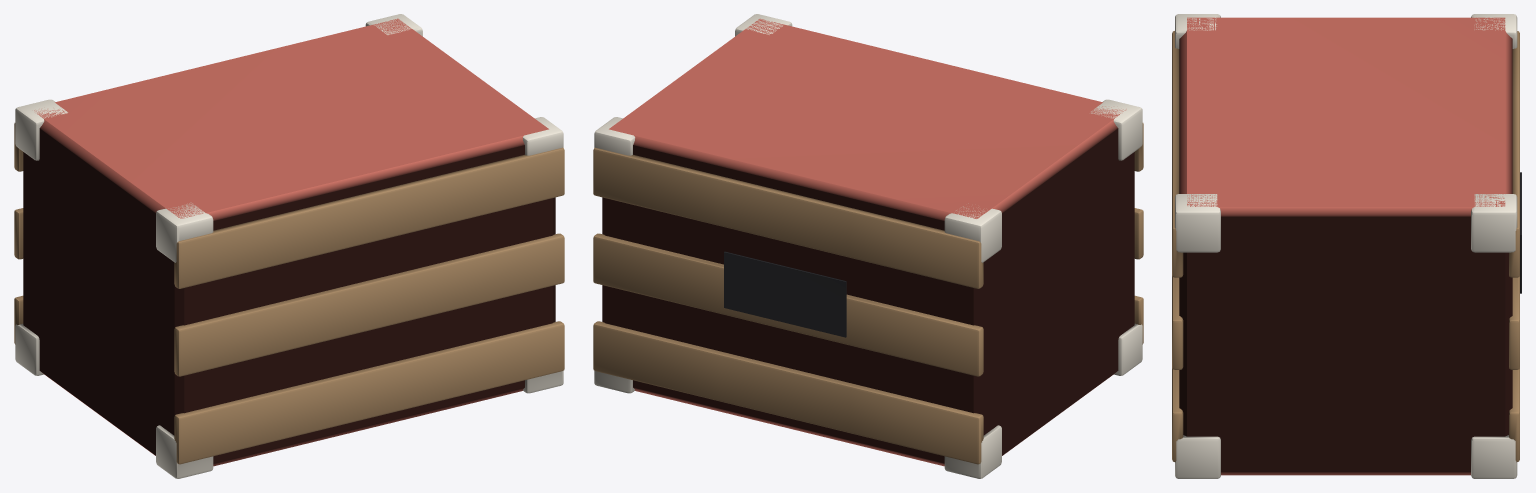
Rendered from fishing_crate.glb.
3 views of the same model, side by side, from view 1: azimuth 30°, elevation 25°; view 2: azimuth 150°, elevation 25°; view 3: azimuth 270°, elevation 25° (orthographic). The views are drawn at different scales.
Visible parts, largest first — view 1: PART; view 2: PART; view 3: PART.
Part boxes in pixels (x1,y1,x2,y2): PART: (14,14,564,478); PART: (593,14,1143,478); PART: (1172,14,1521,478).
Size of the model in its own units: 0.51 by 0.32 by 0.378.
